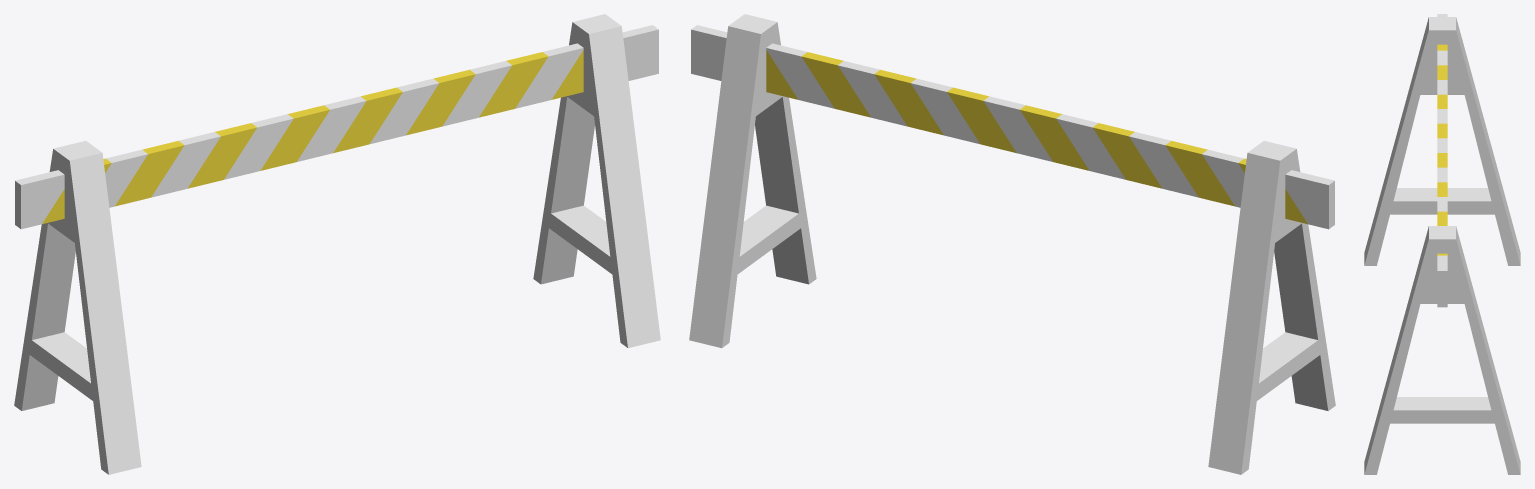
File: Roadblock.FBX
The picture shows the model from 3 angles, left to right: view 1: azimuth 30°, elevation 25°; view 2: azimuth 150°, elevation 25°; view 3: azimuth 270°, elevation 25°; orthographic projection. The views are drawn at different scales.
Visible parts, largest first — view 1: roadblock; view 2: roadblock; view 3: roadblock.
Part boxes in pixels (x1=…): roadblock: x1=14, y1=14, x2=660, y2=474; roadblock: x1=689, y1=14, x2=1335, y2=474; roadblock: x1=1364, y1=14, x2=1520, y2=474.
Bounding box in the file's own units: 190 × 81.29 × 48.85.
